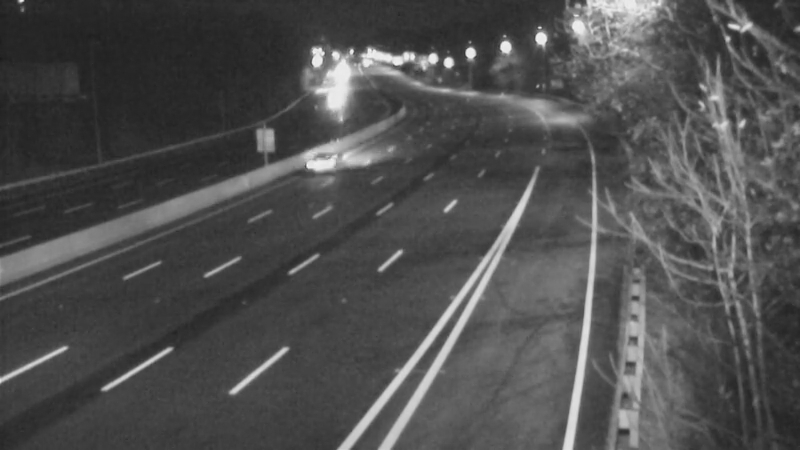vehicle: (279, 119, 359, 199)
